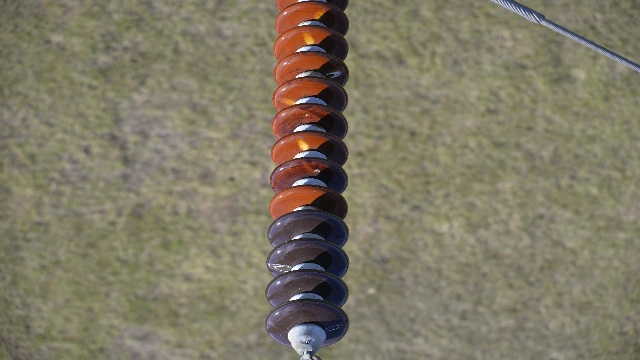insulator_unspecified: (266, 0, 351, 348)
pollution_flashover_local: (296, 135, 313, 154), (301, 29, 317, 48), (269, 262, 293, 274), (276, 94, 300, 105), (312, 8, 330, 22), (323, 70, 343, 82)
